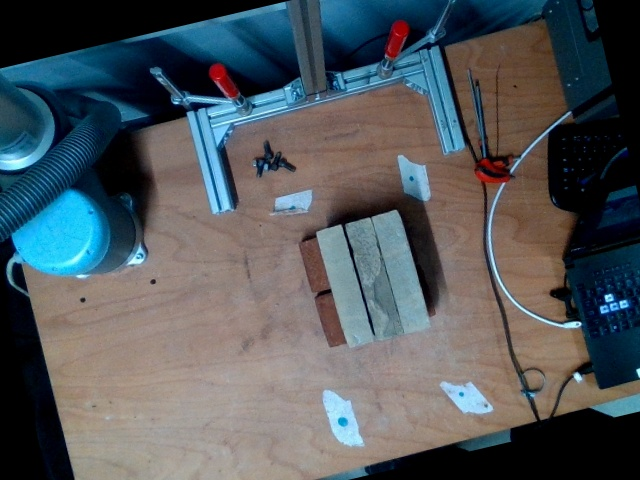brick-side: (371, 210, 432, 335), (344, 217, 405, 342), (315, 225, 376, 349)
